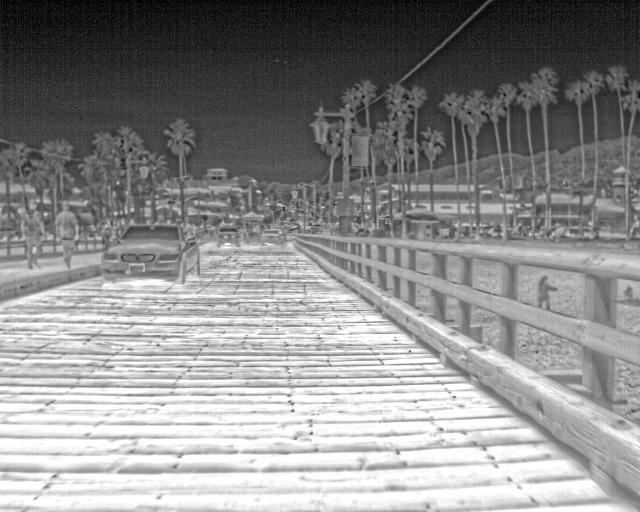bicycle: (98, 224, 201, 283), (257, 224, 287, 245), (217, 224, 245, 246)
empty: (19, 197, 46, 269), (54, 200, 77, 266), (532, 275, 559, 306)
